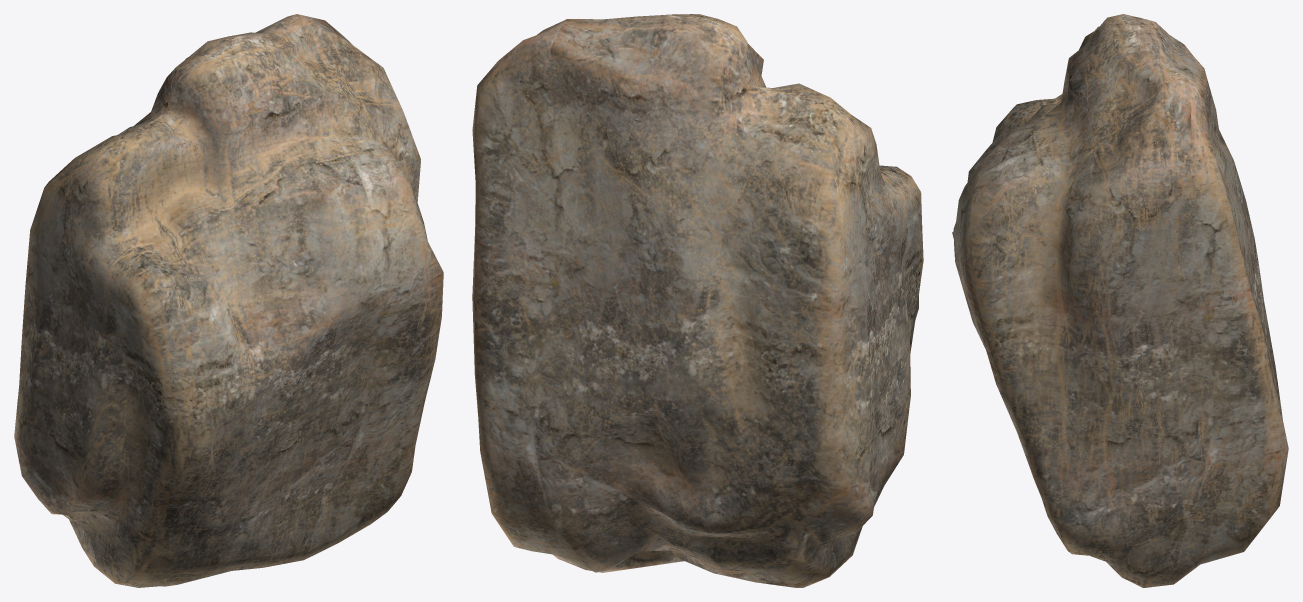
The model's file is rock.glb.
3 views of the same model, side by side, from view 1: azimuth 30°, elevation 25°; view 2: azimuth 150°, elevation 25°; view 3: azimuth 270°, elevation 25° (orthographic). The views are drawn at different scales.
Visible parts, largest first — view 1: Rock_1; view 2: Rock_1; view 3: Rock_1.
Part boxes in pixels (x1=…): Rock_1: x1=14, y1=14, x2=443, y2=587; Rock_1: x1=472, y1=14, x2=923, y2=587; Rock_1: x1=952, y1=14, x2=1288, y2=587.
Size of the model in its own units: 4.08 by 5.8 by 3.34.
1 material, 1 textured.
